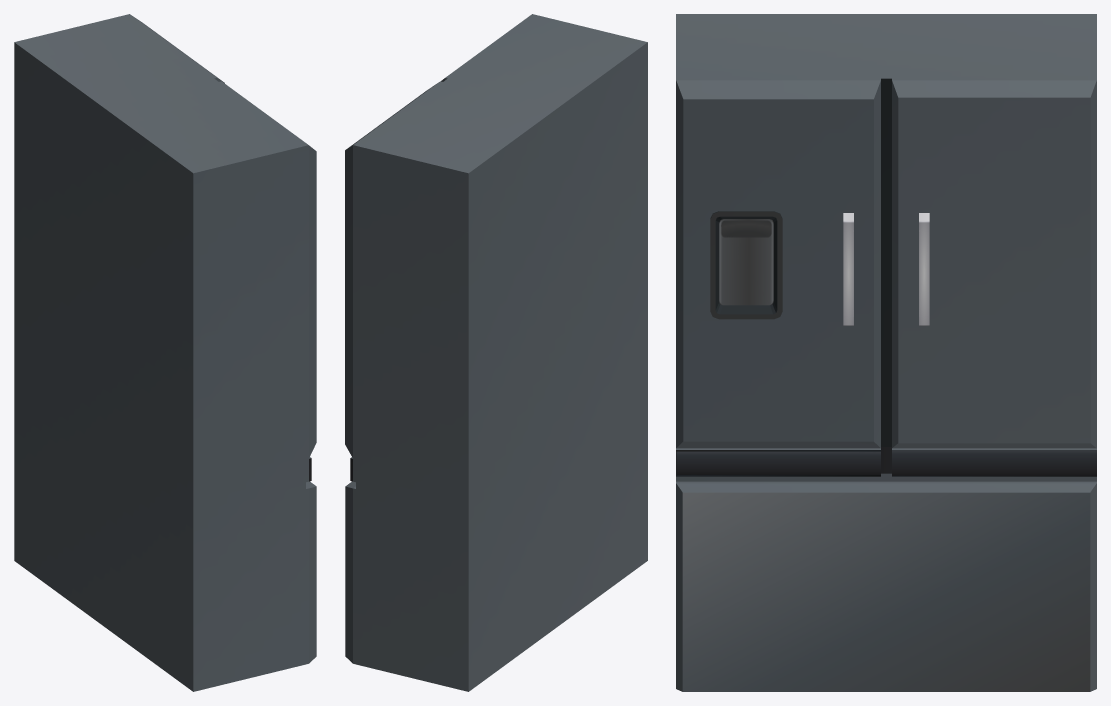
File: fridge.fbx
The picture shows the model from 3 angles, left to right: view 1: azimuth 30°, elevation 25°; view 2: azimuth 150°, elevation 25°; view 3: azimuth 270°, elevation 25°; orthographic projection. The views are drawn at different scales.
Parts seen in each view (by area): view 1: kulkas; view 2: kulkas; view 3: kulkas.
Boxes of the visible parts, x1=… form: kulkas: x1=14, y1=14, x2=316, y2=691; kulkas: x1=345, y1=14, x2=647, y2=691; kulkas: x1=676, y1=14, x2=1096, y2=691.
Size of the model in its own units: 82.81 by 290 by 182.
1 material, 1 textured.
